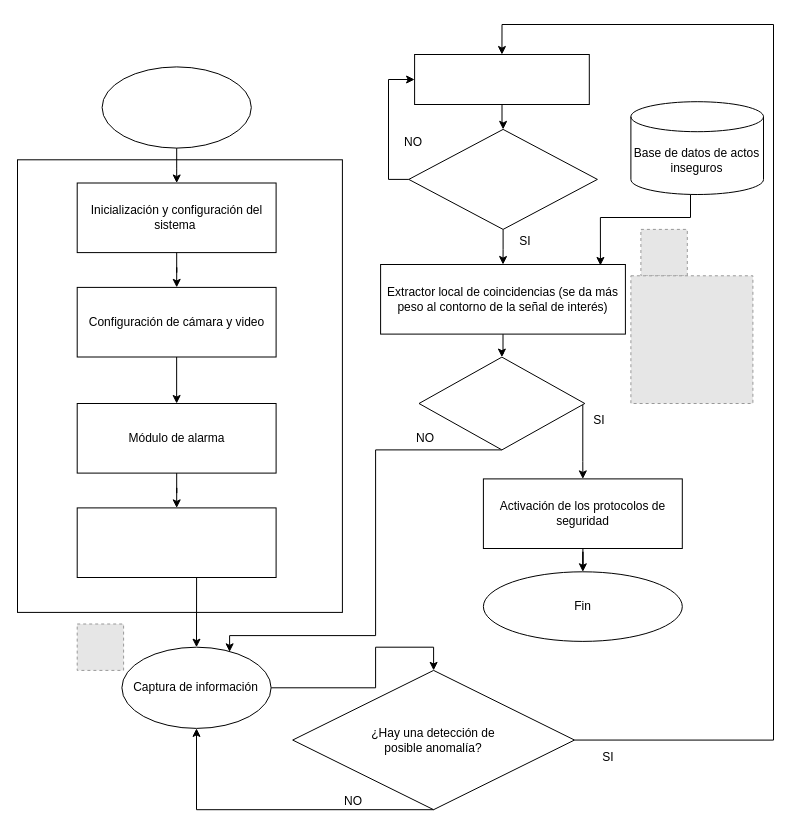
The diagram is 799 pixels wide and 837 high, and some of its shapes have lost their labels. Grey dashed boxes stand in for pictures. Here are the shapes that lost their labels. From the top down, the box of each, then its label:
(414, 54, 589, 104): Filtrado del área de interés
(101, 66, 251, 148): Inicio
(408, 128, 597, 229): ¿La información que procesaré es interesante (ocurre una anomalía allí)?
(418, 356, 585, 450): ¿Es un acto inseguro?
(76, 507, 276, 578): Módulo de conexión a internet
